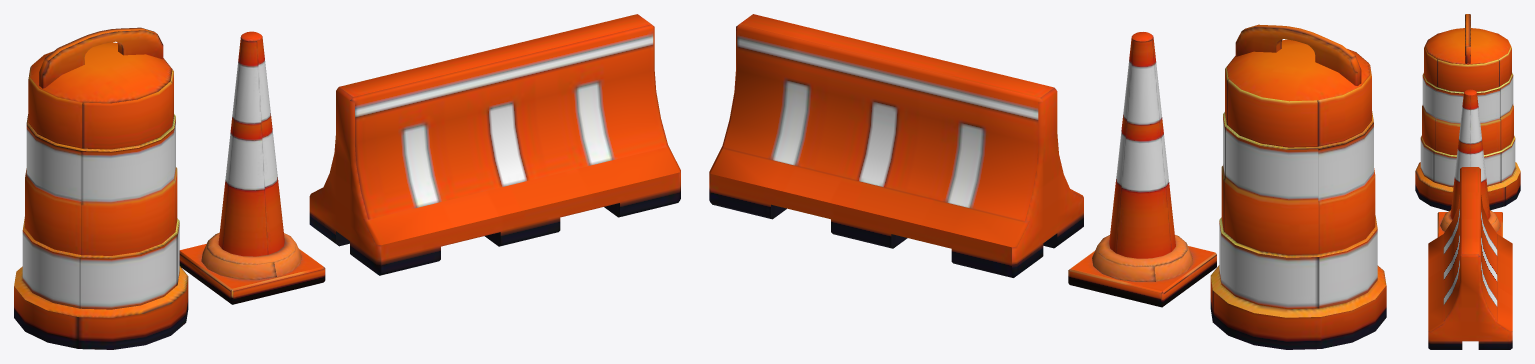
Rendered from props.FBX.
The picture shows the model from 3 angles, left to right: view 1: azimuth 30°, elevation 25°; view 2: azimuth 150°, elevation 25°; view 3: azimuth 270°, elevation 25°; orthographic projection. The views are drawn at different scales.
Visible parts, largest first — view 1: Barrier, CylinderBarrier, CautionConeLarge; view 2: Barrier, CylinderBarrier, CautionConeLarge; view 3: CylinderBarrier, Barrier, CautionConeLarge.
Part boxes in pixels (left/top/right/bottom): Barrier: left=309, top=14, right=680, bottom=275; CylinderBarrier: left=14, top=27, right=188, bottom=349; CautionConeLarge: left=179, top=31, right=325, bottom=304; Barrier: left=709, top=14, right=1083, bottom=277; CylinderBarrier: left=1210, top=24, right=1386, bottom=349; CautionConeLarge: left=1068, top=32, right=1216, bottom=307; CylinderBarrier: left=1415, top=14, right=1520, bottom=210; Barrier: left=1428, top=167, right=1512, bottom=349; CautionConeLarge: left=1437, top=89, right=1502, bottom=237.
Bounding box in the file's own units: 92.06 × 39.51 × 22.45.
1 material, 1 textured.
